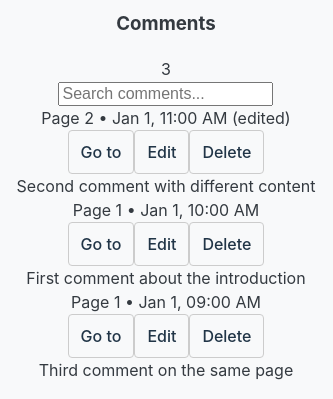
Scenario: CommentList › Search Functionality › clears search results when search term is cleared
Type "introduction" into the field with placeholder "Search comments..." at (166,94), box [58,82,274,106]
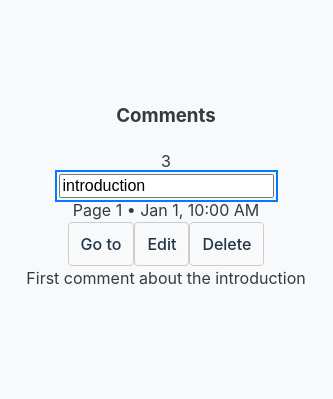
Expected: the text "First comment about the introduction" is shown once, [26,266,306,290]
Clear the field with placeholder "Search comments..." at (166,186), box [58,174,274,198]
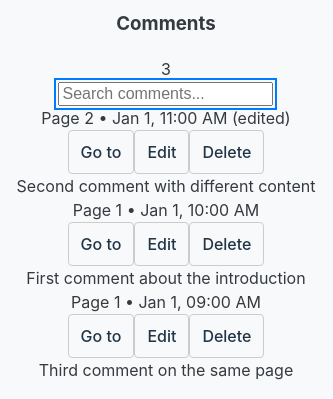
Expected: the text "Second comment with different content" is shown 3 times, [17,174,315,198]; [17,266,315,290]; [17,358,315,382]
